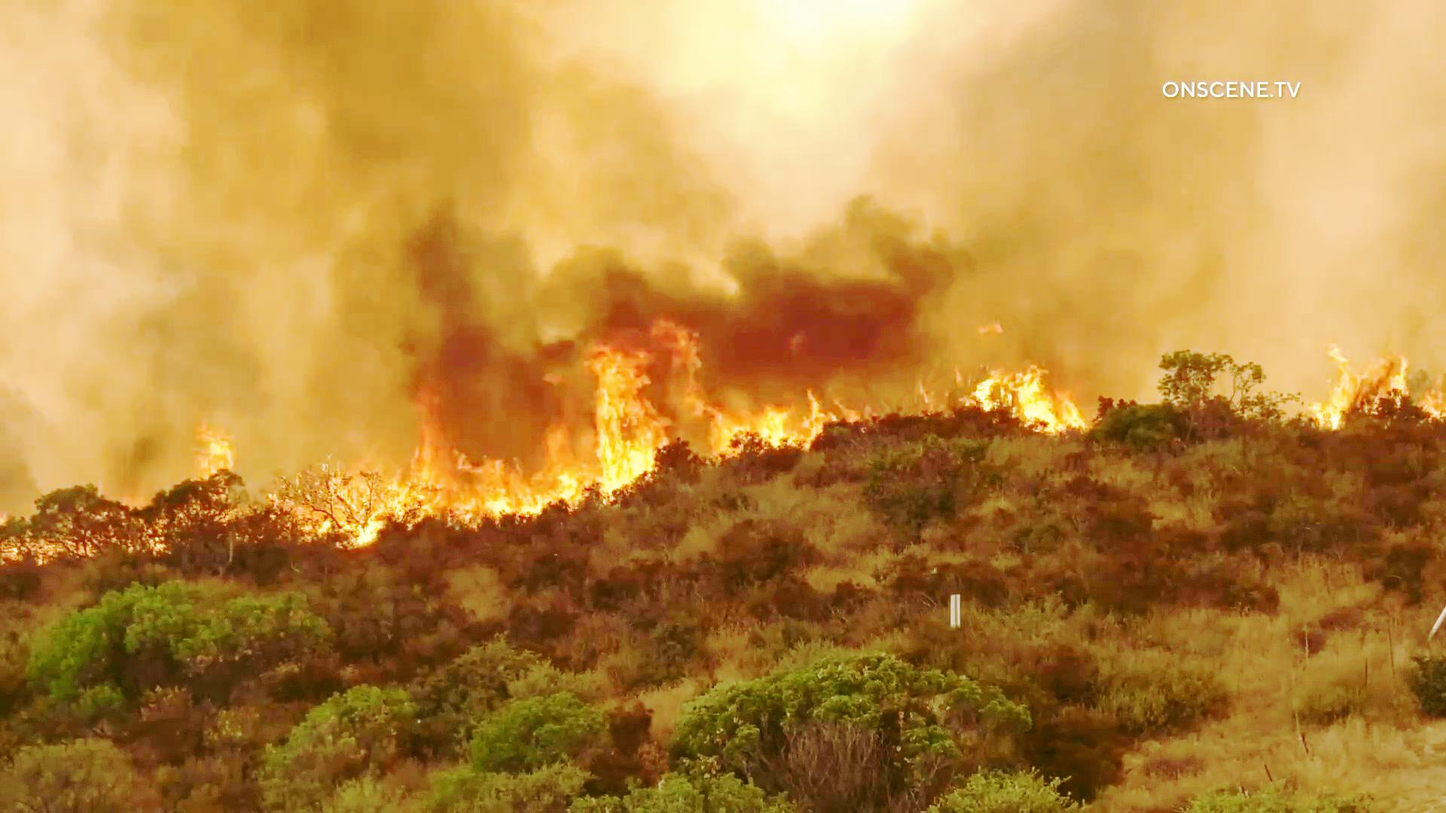fire: (232, 397, 522, 526), (560, 326, 740, 488), (966, 350, 1106, 435)
smoke: (228, 17, 1082, 323)
